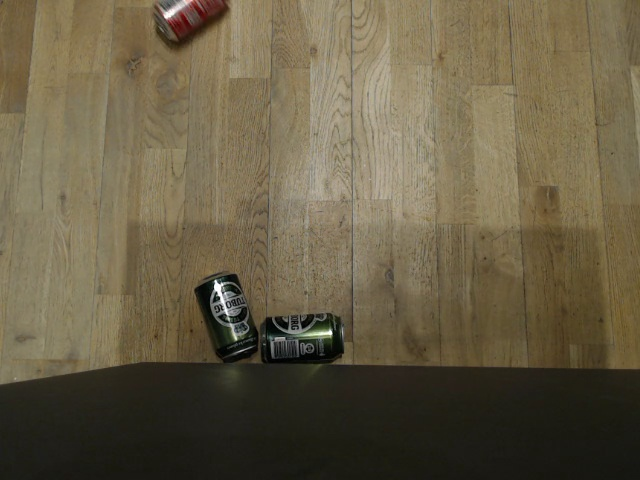beer: (192, 270, 258, 361), (260, 312, 344, 360)
cola: (150, 0, 231, 50)
